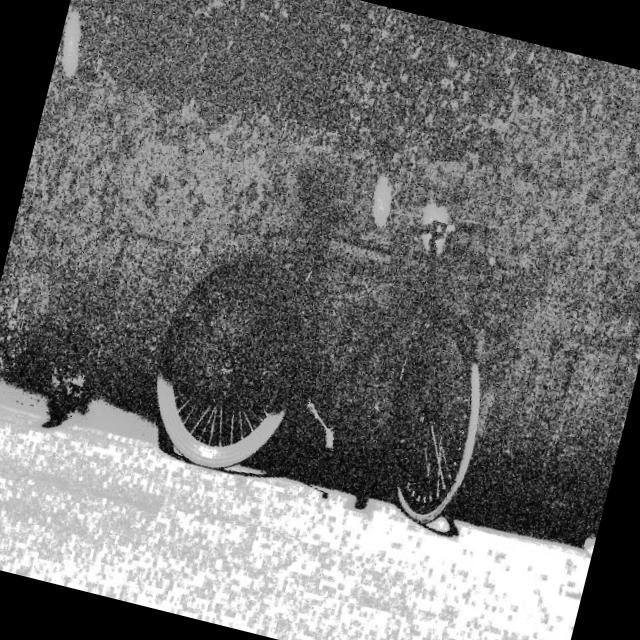Bicycle: (65, 96, 574, 601)
